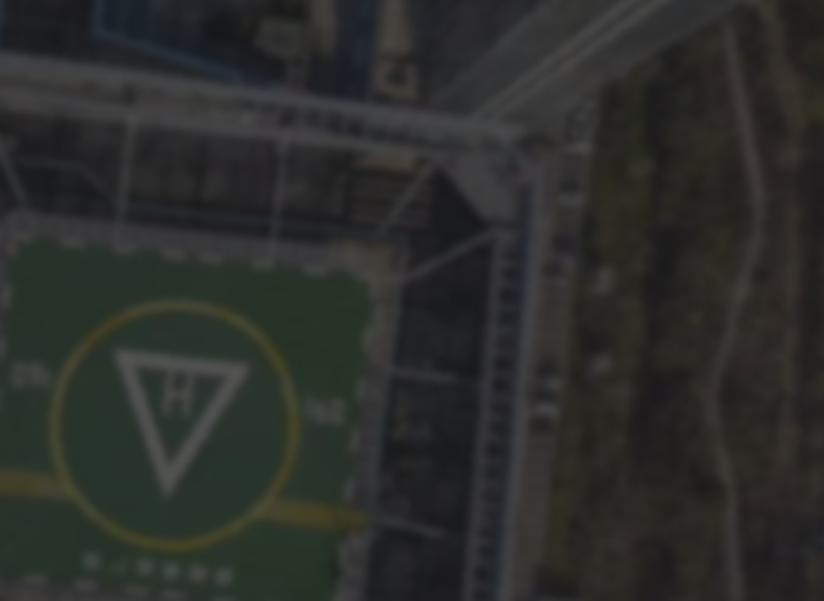Apron: (40, 290, 312, 564)
